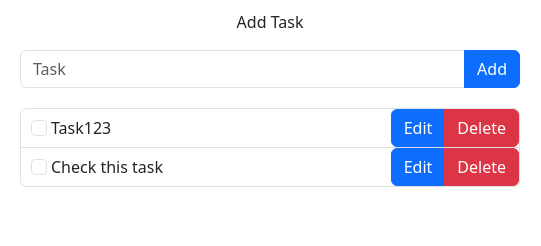
Test case: ToDoPage Component › update task
Step 1. Type "oldText" into the field with placeholder "Task" → (243, 69), box [20, 50, 465, 88]
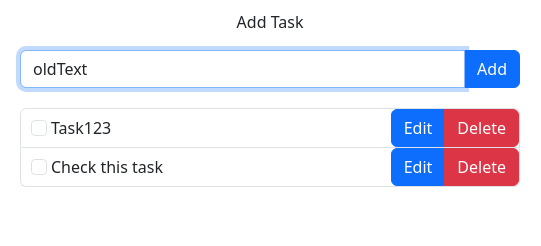
Step 2. Click the button "Add" → (492, 69), box [464, 50, 520, 88]
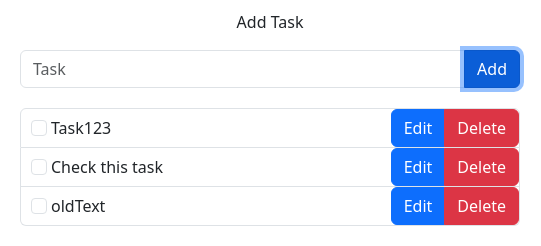
Result: the text "oldText" is shown at [51, 194, 105, 218]
Step 3. Click the button "Edit" in the row of "oldText" → (418, 206), box [391, 187, 445, 225]
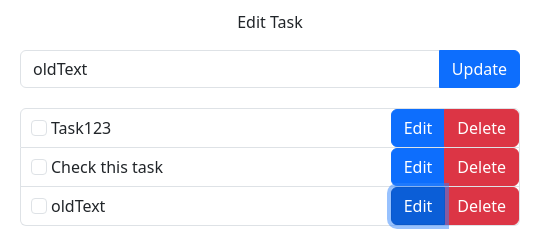
Step 4. Replace the text in the field with placeholder "Task" with "newText" → (230, 69), box [20, 50, 440, 88]
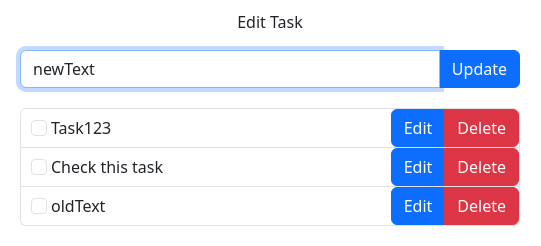
Step 5. Click the button "Update" → (479, 69), box [439, 50, 520, 88]
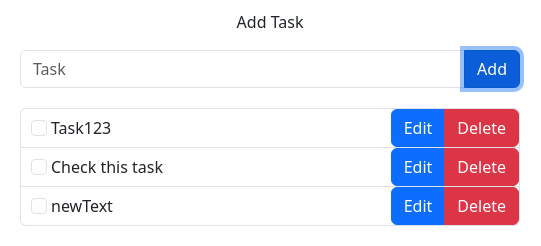
Result: the checkbox labelled "newText" is shown at [31, 198, 47, 214]
Result: the label labelled "oldText" is gone
